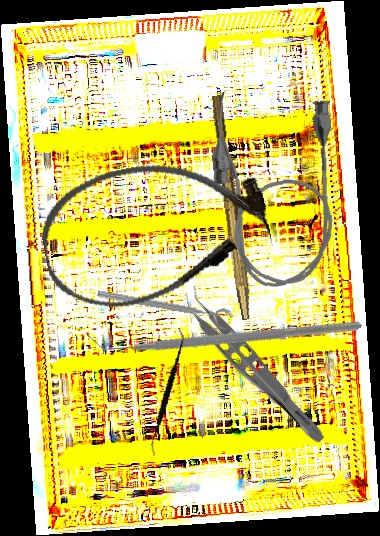Cannula: (32, 143, 279, 321), (208, 85, 340, 291)
Chopper: (86, 199, 363, 462)
Fixation Ring: (95, 286, 234, 332)
Scalpel Handle: (205, 94, 259, 321)
Spatula Surgical: (118, 327, 215, 457)
Tissue Forceps: (173, 282, 338, 448)
